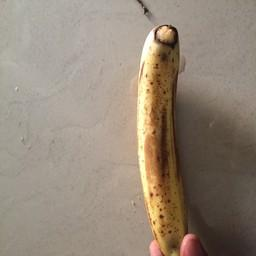Banana Ripe: (121, 10, 206, 255)
